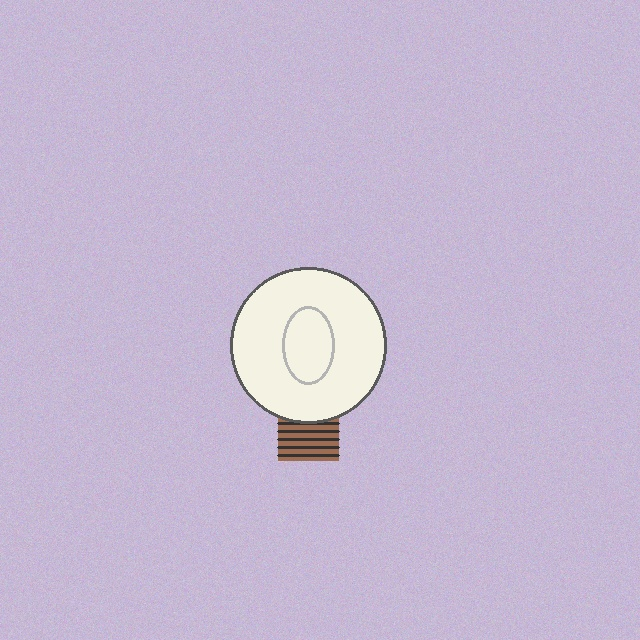bulb: (226, 263, 390, 465)
